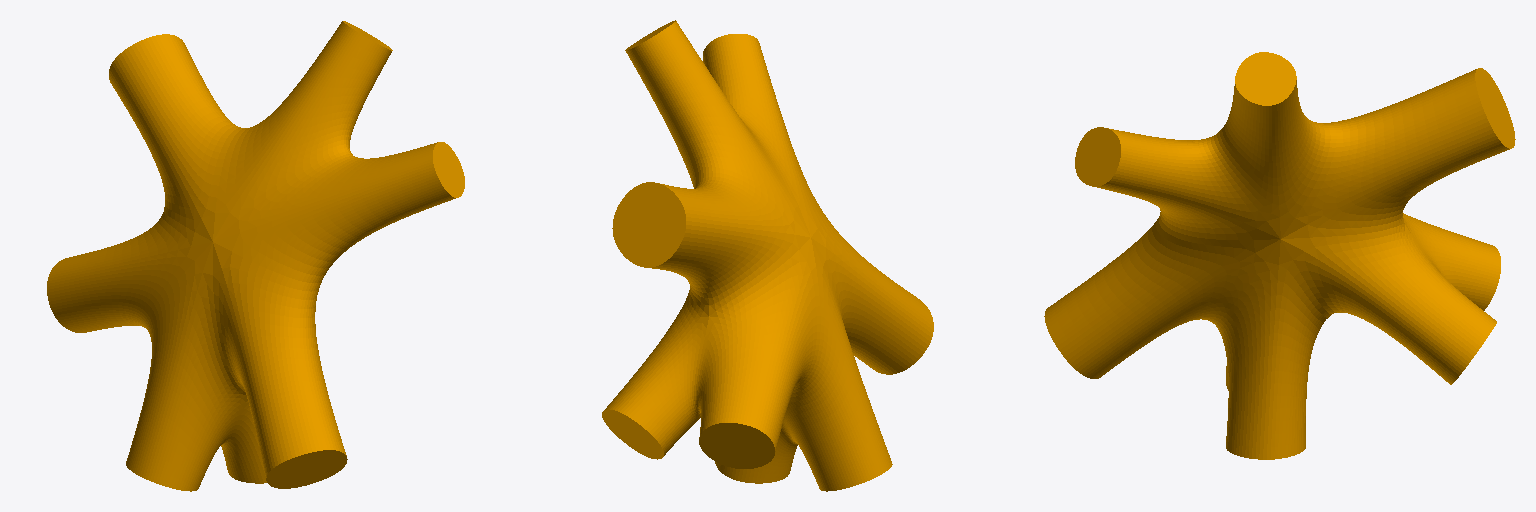
The robot description file, URDF, robot "object":
<robot name="object">
  <link name="object">
    <visual>
      <origin xyz="0 0 0"/>
      <geometry>
        <mesh filename="visual.obj" scale="1 1 1"/>
      </geometry>
    </visual>
    <collision>
      <origin xyz="0 0 0"/>
      <geometry>
        <mesh filename="visual.obj" scale="1 1 1"/>
      </geometry>
    </collision>
    <inertial>
      <mass value="0.05"/>
      <inertia ixx="3.1737379188832106e-05" iyy="2.089357341673978e-05" izz="1.9722430892896767e-05" ixy="1.272406179980859e-06" ixz="-5.341003711411035e-06" iyz="-9.917751216025539e-07"/>
    </inertial>
  </link>
</robot>

--- What the picture shows (computed from the rendered views, not written in the file) ---
The picture shows the robot from 3 angles, left to right: view 1: azimuth 30°, elevation 25°; view 2: azimuth 150°, elevation 25°; view 3: azimuth 270°, elevation 25°; orthographic projection.
Model object with 1 links and 0 joints (none), rooted at object, posed all joints at 0.
Links seen in each view (by area): view 1: object; view 2: object; view 3: object.
Link boxes in pixels (x1,y1,x2,y2): object: (47,21,464,491); object: (602,20,933,491); object: (1044,52,1515,459).
Size in the robot's own frame: 0.0552 by 0.0844 by 0.0871 metres.
1 mesh visuals loaded from 1 distinct referenced files (1 OBJ).
